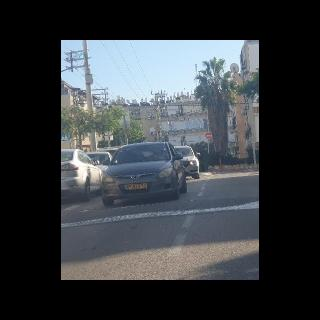LicensePlate: (127, 183, 147, 189)
